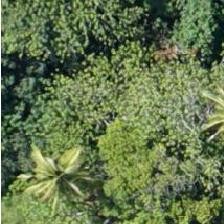Kelapa_Sawit: (12, 134, 102, 224)
